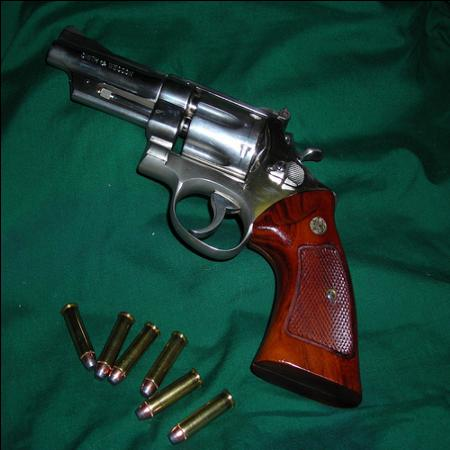Pistol: (44, 26, 361, 406)
